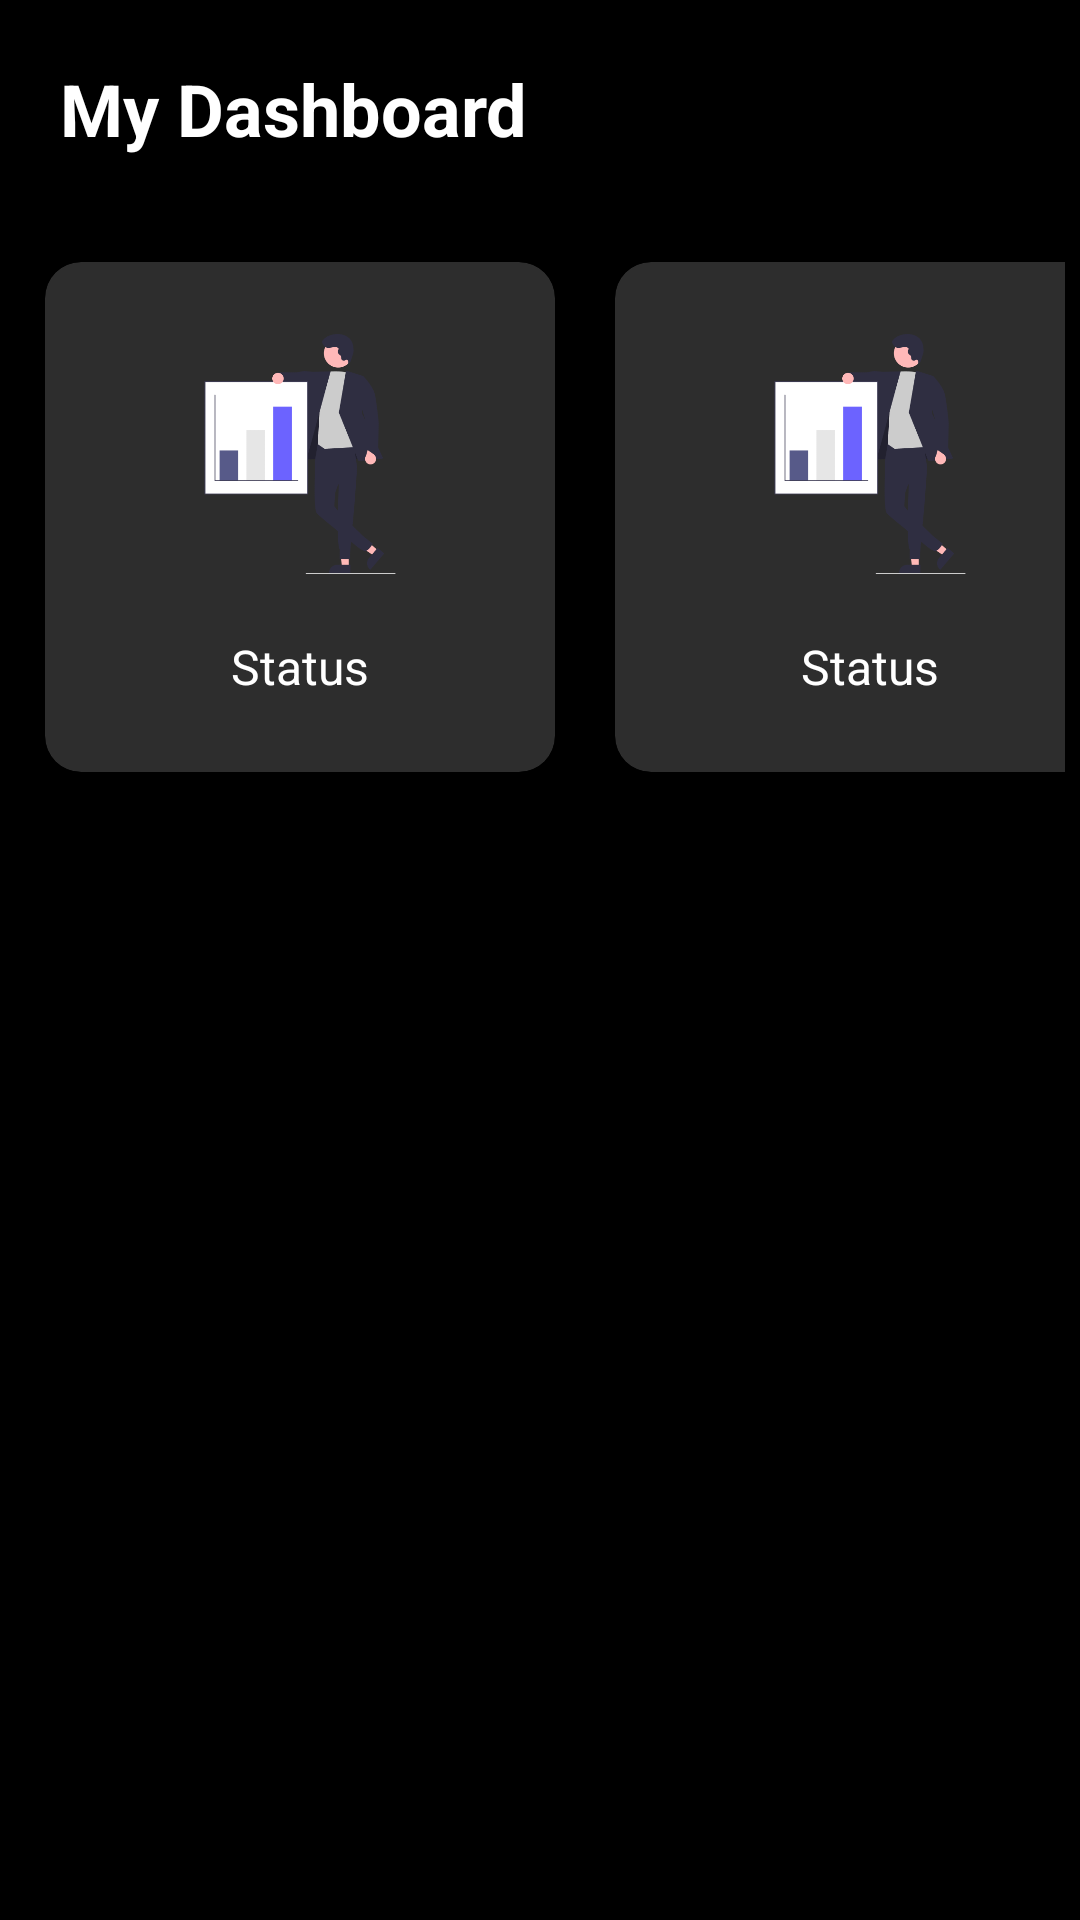

Icon click points for this 1080×1920 phone screenshot, format point (x, y):
dashone: point (300, 460), point (870, 460)
